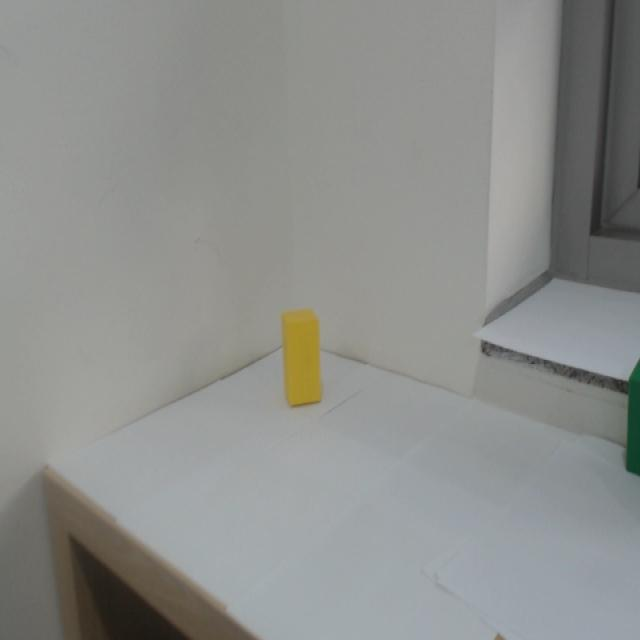cube: (268, 306, 332, 425)
